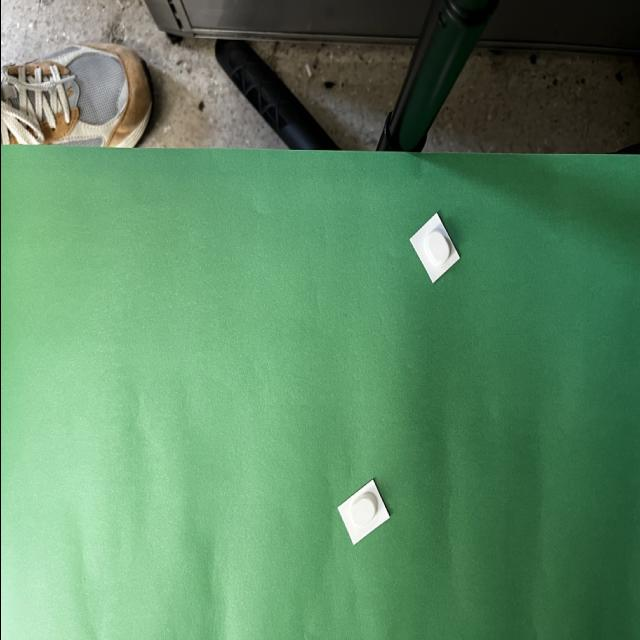Other Objects: (336, 479, 389, 544), (409, 213, 458, 282)
